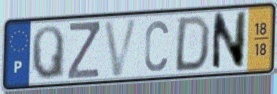C: (143, 18, 171, 74)
D: (172, 13, 212, 73)
N: (210, 9, 249, 73)
Q: (30, 23, 66, 81)
V: (102, 15, 141, 79)
Z: (66, 20, 101, 81)
